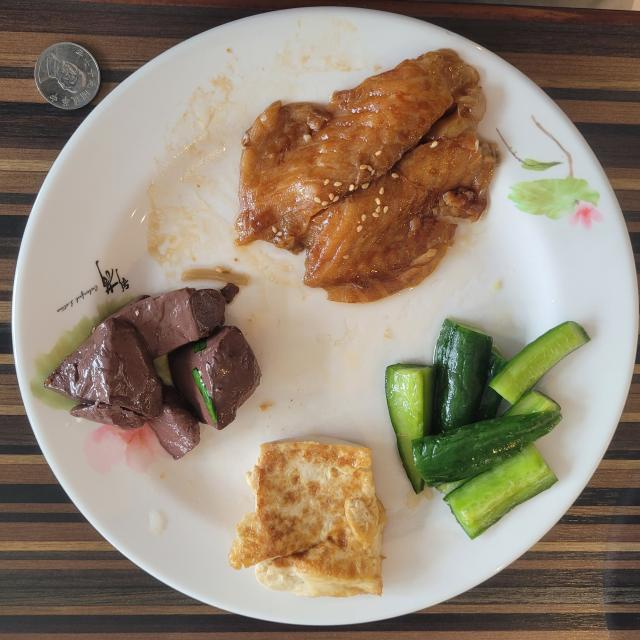Kabayaki sea bream fillet: (236, 49, 499, 302)
coin: (35, 42, 100, 110)
cucumber: (385, 319, 590, 539)
pig blood curd: (45, 285, 261, 458)
